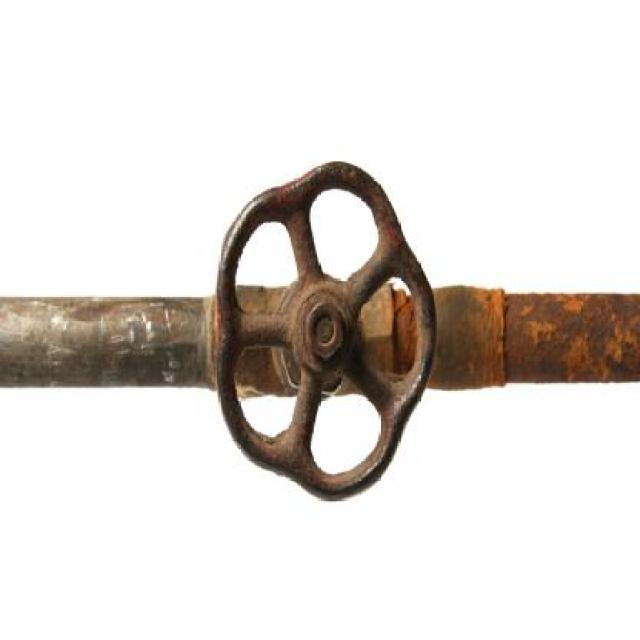corrosion: (0, 153, 640, 507)
